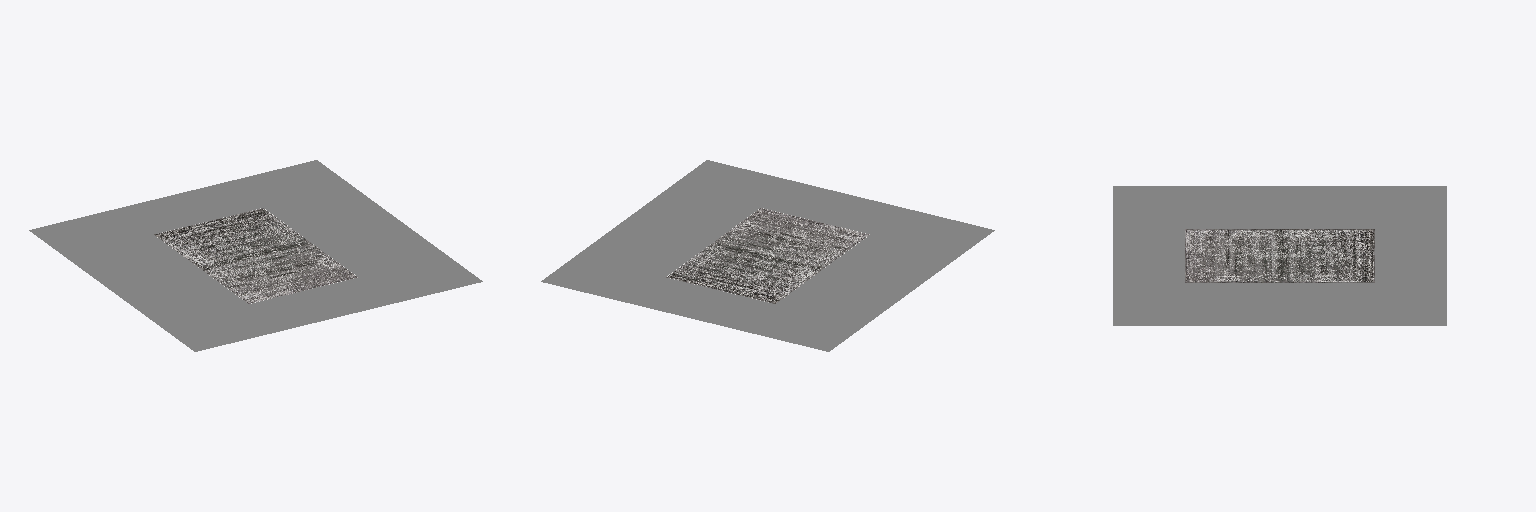
The picture shows the model from 3 angles: view 1: azimuth 30°, elevation 25°; view 2: azimuth 150°, elevation 25°; view 3: azimuth 270°, elevation 25°; orthographic projection.
Parts seen in each view (by area): view 1: shadow_plane_v6, not_clear_obj_0_v6; view 2: shadow_plane_v6, not_clear_obj_0_v6; view 3: shadow_plane_v6, not_clear_obj_0_v6.
Part boxes in pixels (x1,y1,x2,y2): shadow_plane_v6: (29,160,482,351); not_clear_obj_0_v6: (154,208,357,303); shadow_plane_v6: (541,160,994,351); not_clear_obj_0_v6: (666,208,869,303); shadow_plane_v6: (1113,186,1446,325); not_clear_obj_0_v6: (1185,229,1374,282).
Size of the model in its own units: 320 by 0.0257 by 320.
2 materials, 1 textured.